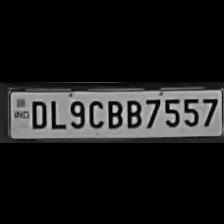5: (160, 95, 180, 127), (180, 94, 200, 125)
7: (142, 94, 160, 128), (200, 93, 218, 126)
9: (66, 96, 86, 128)
B: (104, 96, 122, 128), (124, 96, 142, 128)
C: (86, 96, 104, 128)
D: (27, 96, 47, 128)
L: (48, 96, 64, 128)
